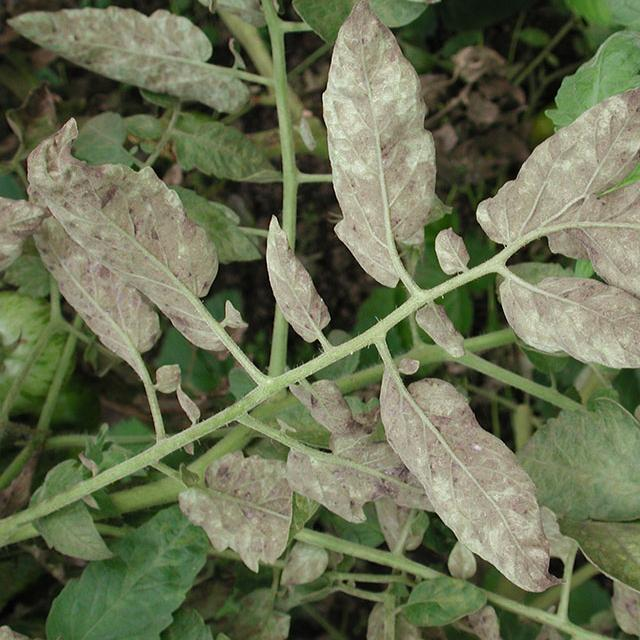Tomato mold leaf: (44, 515, 206, 640), (519, 395, 640, 514)
